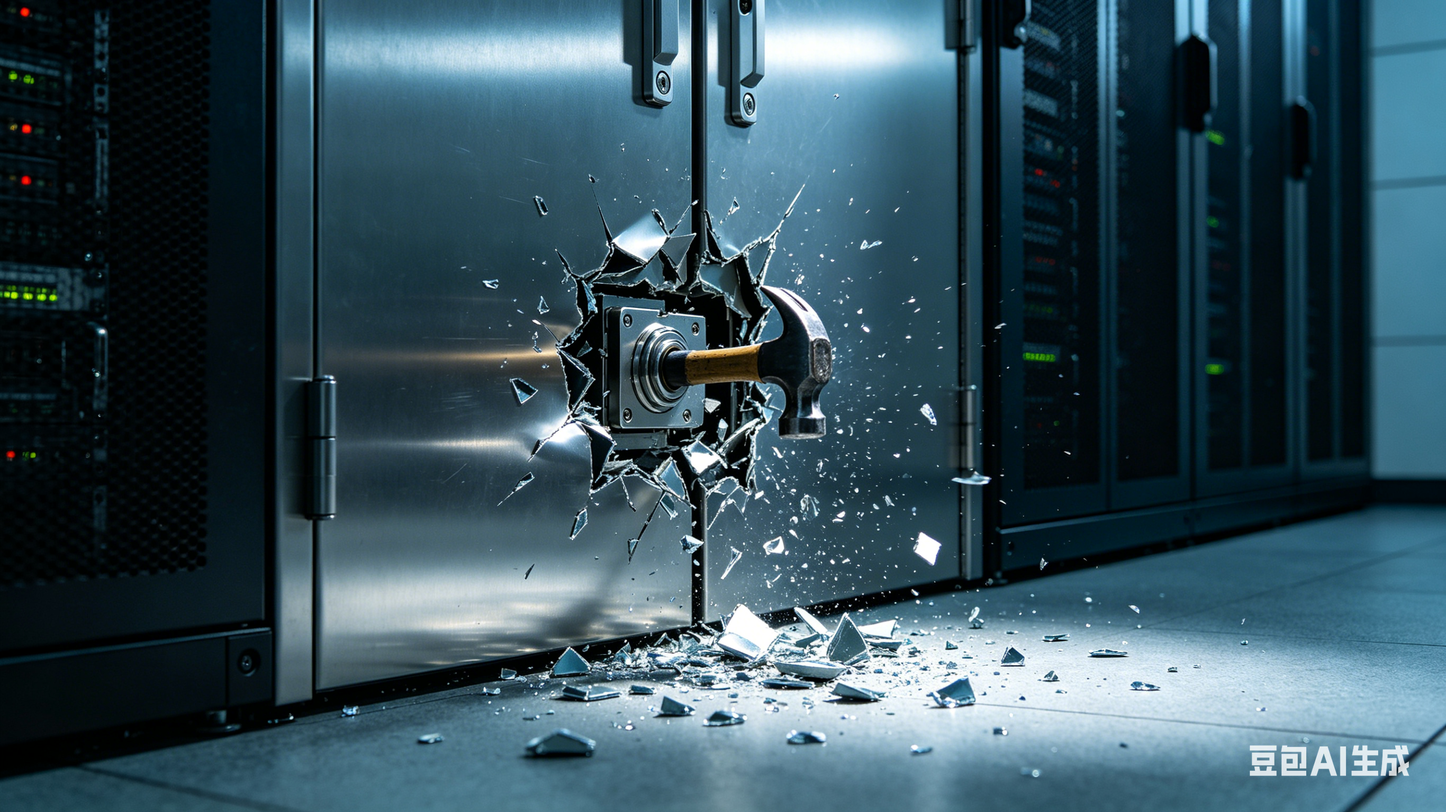BadLock: (566, 281, 775, 459)
